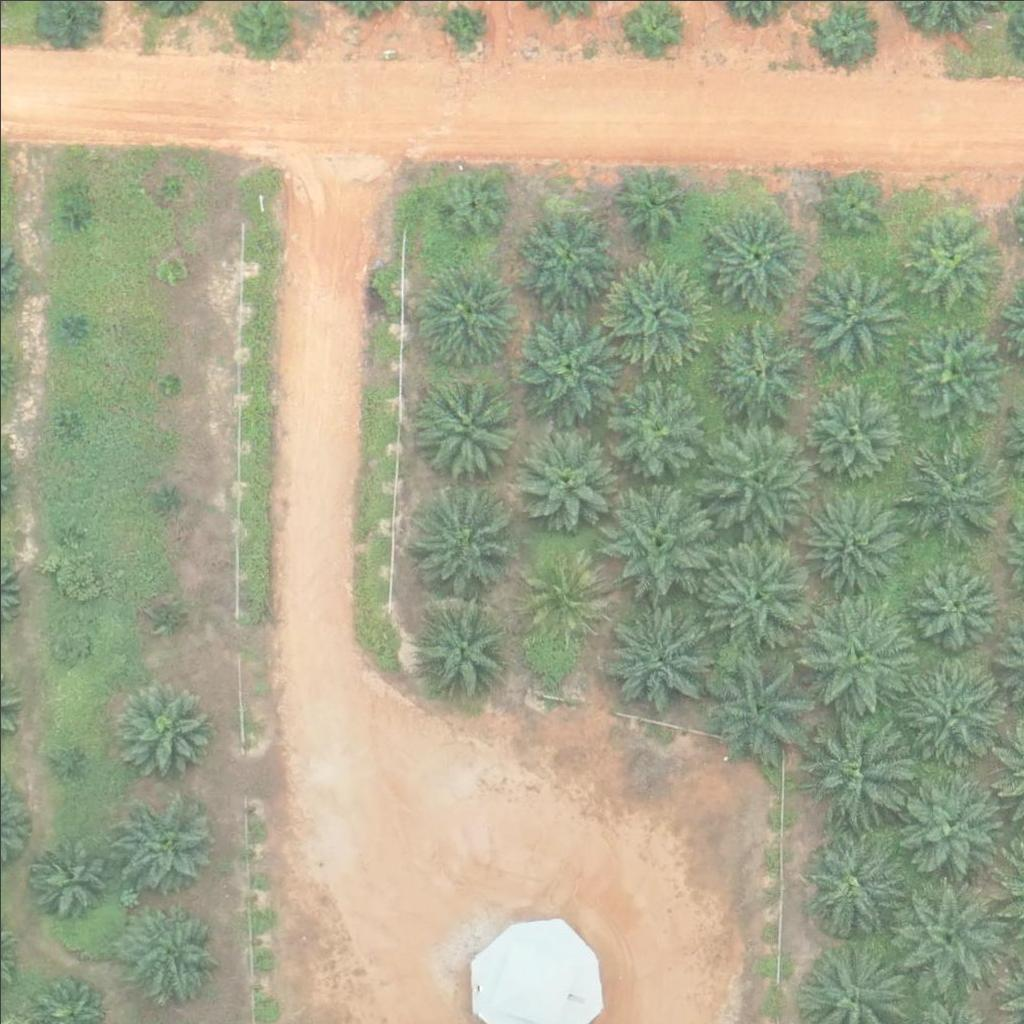Kelapa_Sawit: (597, 599, 710, 713), (599, 483, 712, 597), (699, 648, 812, 762), (510, 311, 623, 424), (891, 877, 1003, 991), (700, 542, 812, 656), (797, 709, 909, 823), (598, 250, 710, 363), (403, 485, 515, 598), (703, 418, 815, 531), (800, 596, 912, 709), (896, 651, 1008, 764), (894, 766, 1006, 879), (121, 903, 221, 1004), (113, 792, 213, 893), (115, 684, 215, 785), (413, 597, 513, 698), (516, 205, 616, 306), (707, 314, 807, 415), (703, 207, 803, 308), (801, 491, 901, 592), (800, 378, 900, 479), (800, 269, 900, 370), (901, 446, 1001, 547), (899, 320, 999, 421), (899, 208, 999, 309), (801, 831, 901, 931), (418, 378, 518, 478), (413, 264, 513, 364), (512, 425, 612, 525), (606, 375, 706, 475), (519, 547, 607, 635), (25, 835, 112, 923), (912, 557, 999, 645), (432, 166, 507, 242), (614, 161, 689, 236), (810, 167, 885, 242), (49, 622, 87, 660), (442, 4, 479, 42), (49, 750, 74, 775), (53, 520, 78, 545), (59, 404, 84, 429), (153, 600, 178, 625), (153, 487, 178, 512), (157, 369, 182, 394), (161, 257, 186, 282), (158, 173, 183, 198), (58, 315, 83, 340), (65, 205, 90, 230)
